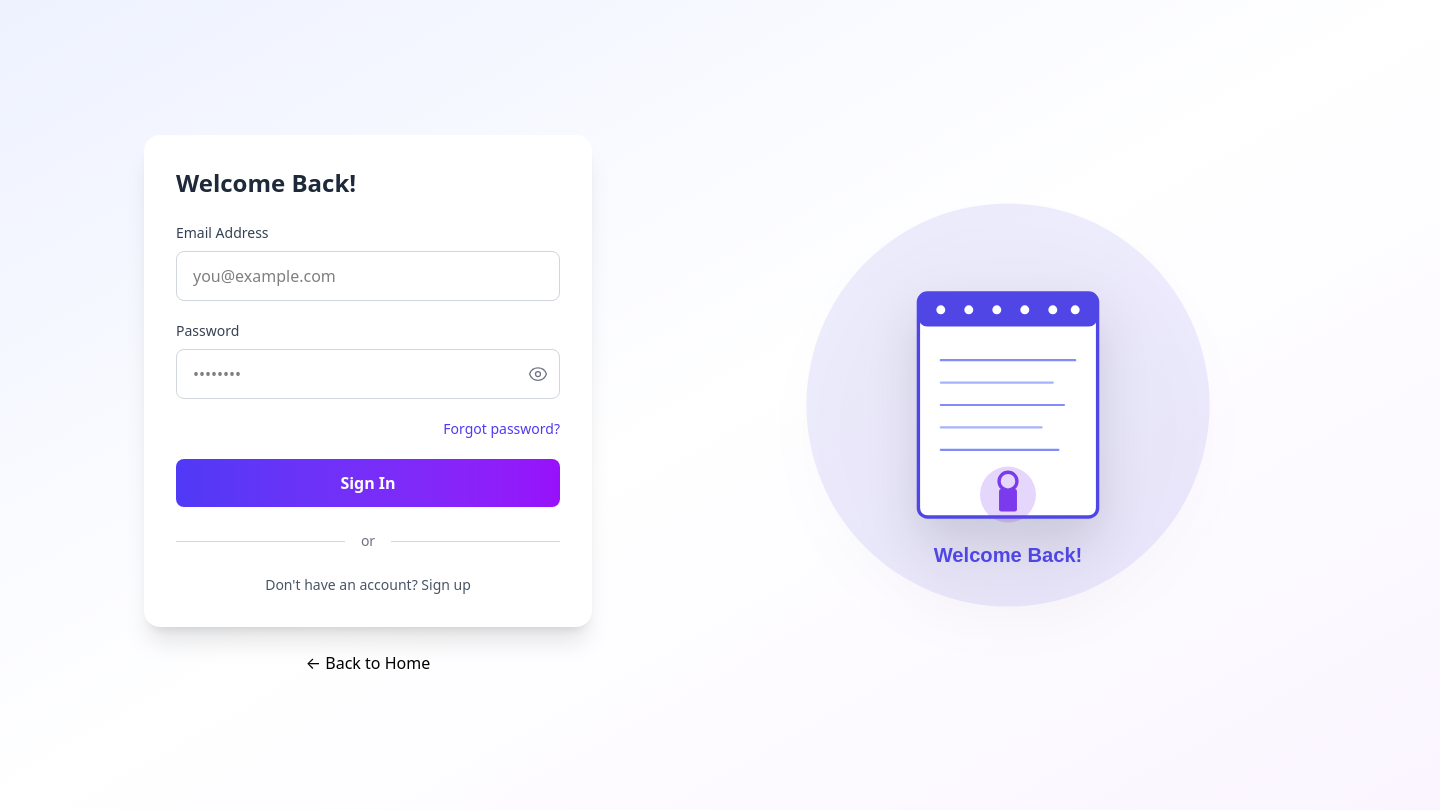
Test: Reset Password Functionality › Forgot Password Flow › opens forgot password dialog when clicking forgot password link
Click the button "Forgot password?".
click(502, 429)  # box [443,419,560,439]
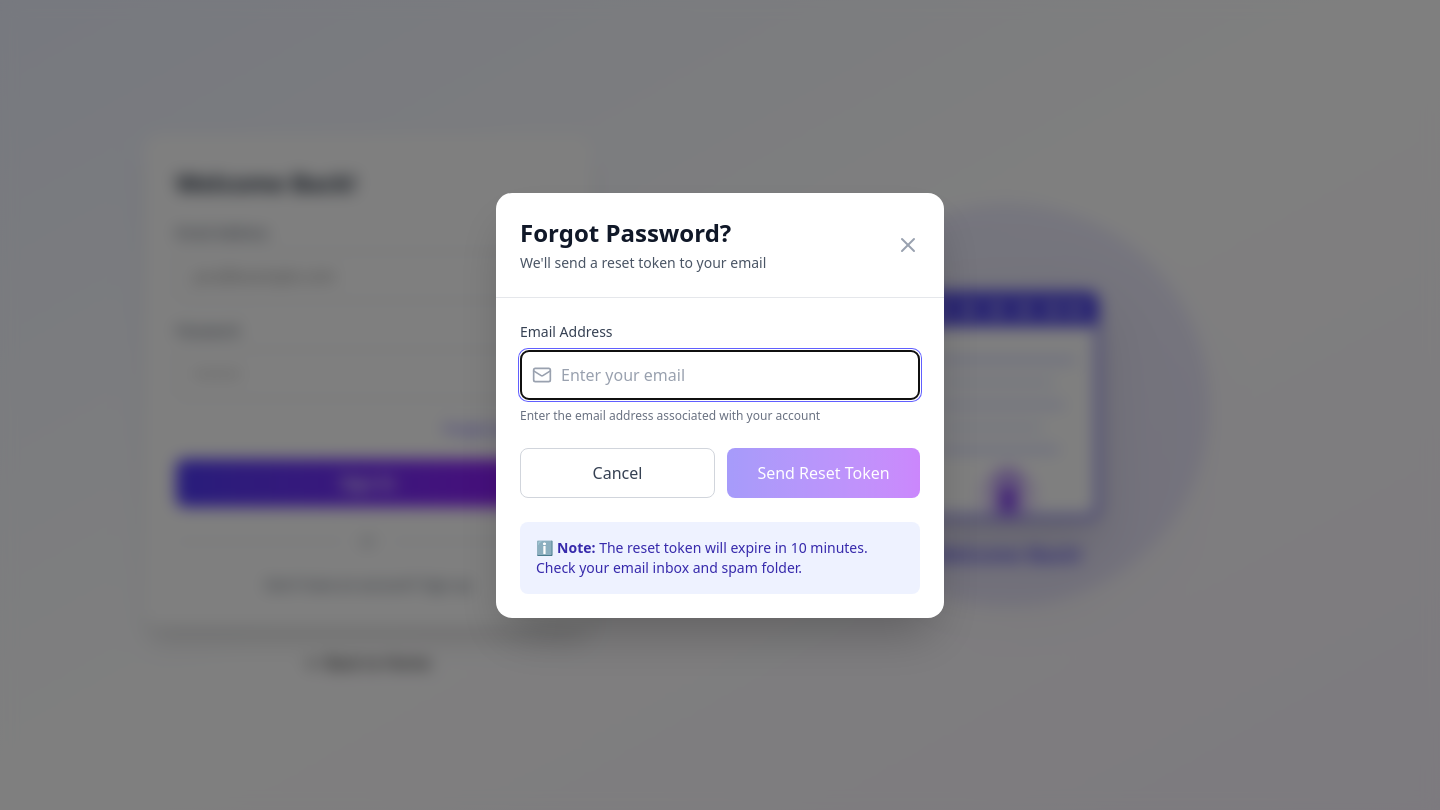
Result: the heading "Forgot Password?" is shown at [520,216,766,248]
